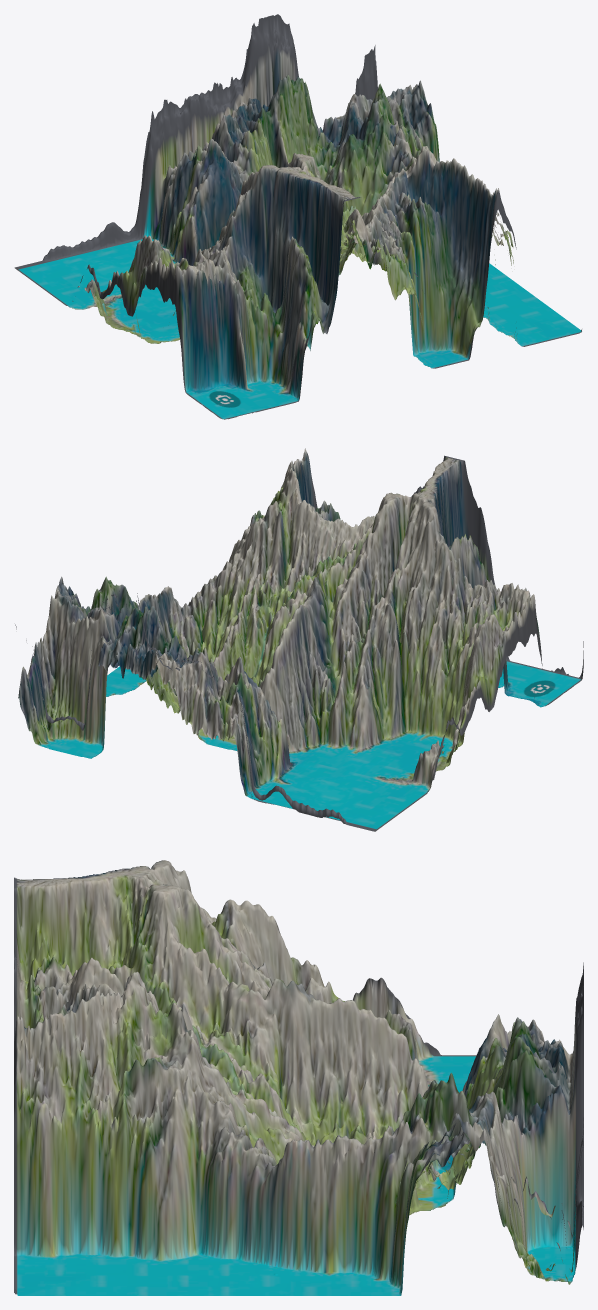
File: dsm_c89ca0275a_mesh.glb
3 views of the same model, one above another, from view 1: azimuth 30°, elevation 25°; view 2: azimuth 150°, elevation 25°; view 3: azimuth 270°, elevation 25° (orthographic). The views are drawn at different scales.
Parts seen in each view (by area): view 1: geometry_0; view 2: geometry_0; view 3: geometry_0.
Boxes of the visible parts, x1,y1,x2,y2 form: geometry_0: (14,14,581,419); geometry_0: (15,448,583,831); geometry_0: (14,860,583,1295).
Bounding box in the file's own units: 2 × 1 × 2.
